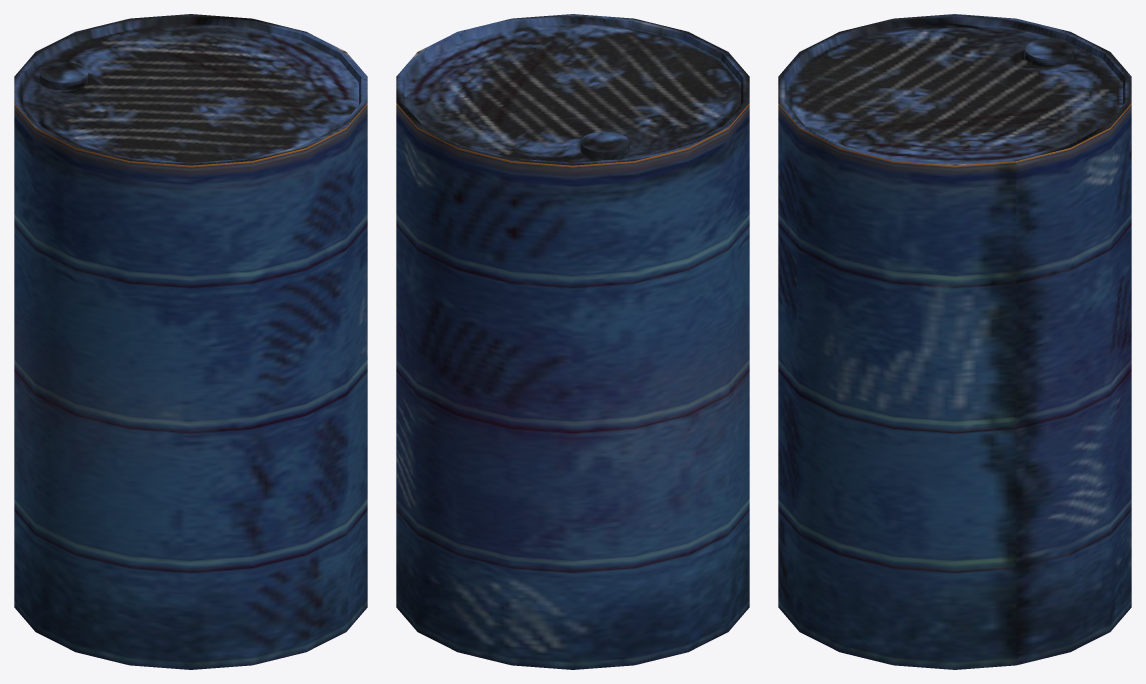
Rendered from barell2.fbx.
3 renders of one model, left to right at view 1: azimuth 30°, elevation 25°; view 2: azimuth 150°, elevation 25°; view 3: azimuth 270°, elevation 25°, orthographic.
Visible parts, largest first — view 1: barell05; view 2: barell05; view 3: barell05.
Part boxes in pixels (x1,y1,x2,y2): barell05: (14, 14, 367, 669); barell05: (396, 14, 749, 669); barell05: (778, 14, 1131, 669).
Size of the model in its own units: 68.13 by 106 by 67.1.
